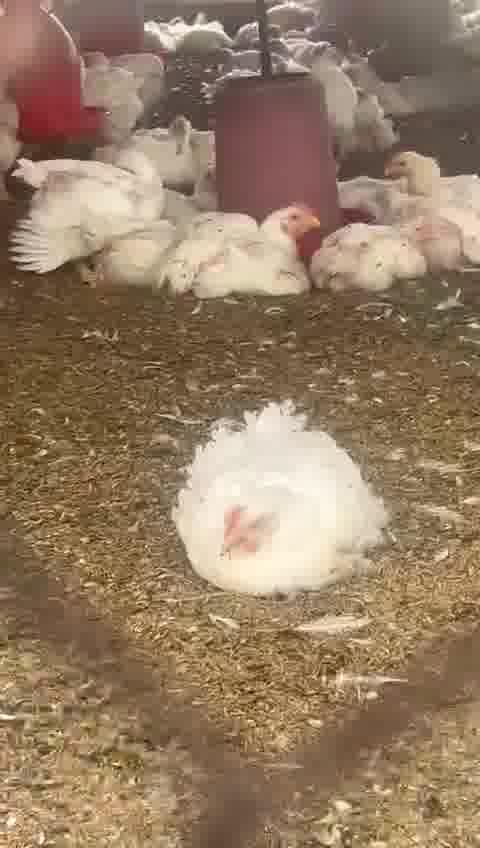AbNormal: (179, 402, 386, 589), (174, 204, 320, 300), (384, 150, 480, 250)
